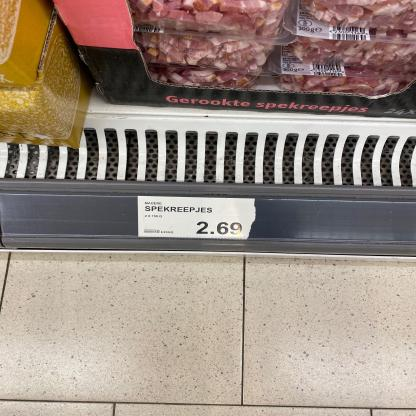prtg: (139, 197, 256, 241)
